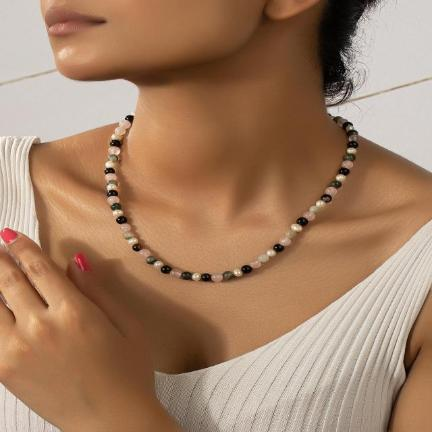Nail: (75, 252, 92, 273), (0, 228, 18, 244)
